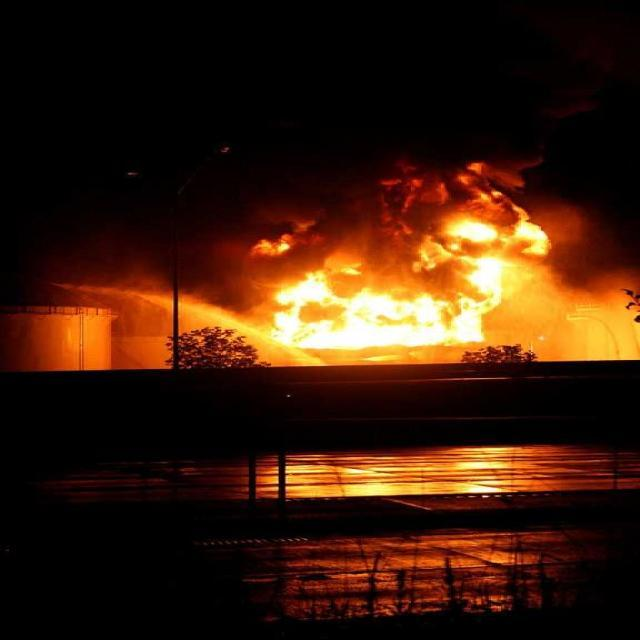Fire: (293, 320, 477, 344), (356, 298, 490, 318)
